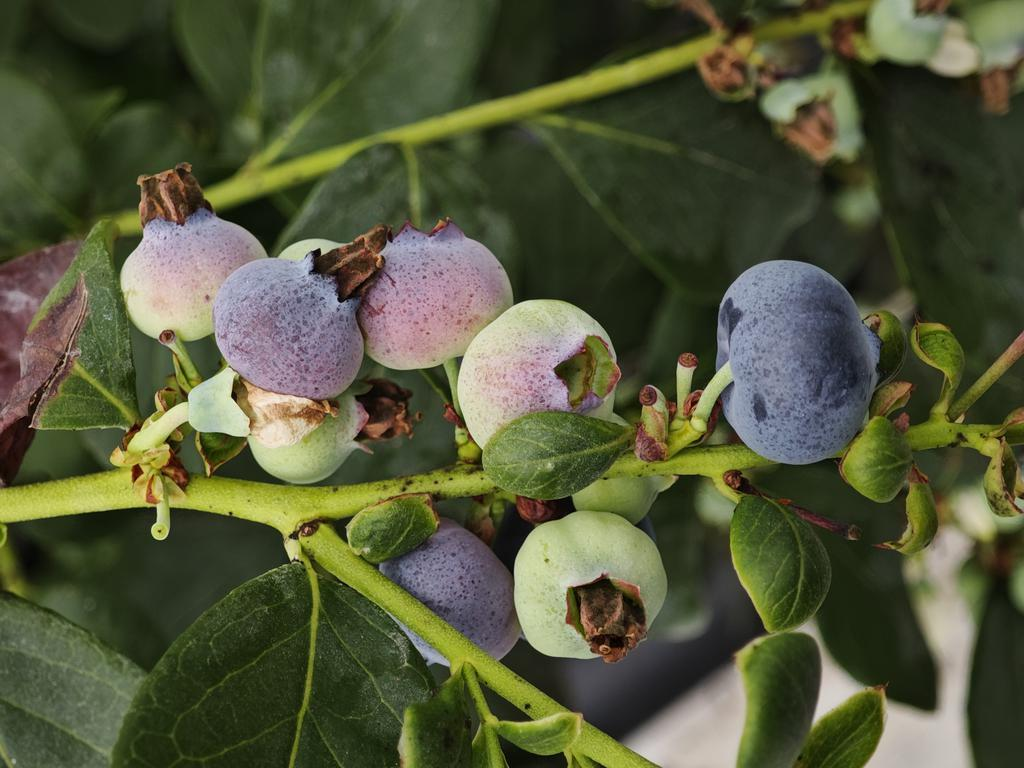Semi-RipeBlueBerry: (512, 506, 666, 663), (358, 219, 517, 370), (454, 307, 626, 430), (220, 259, 369, 398), (122, 193, 252, 343)
UnripeBlueBerry: (724, 252, 872, 456)
